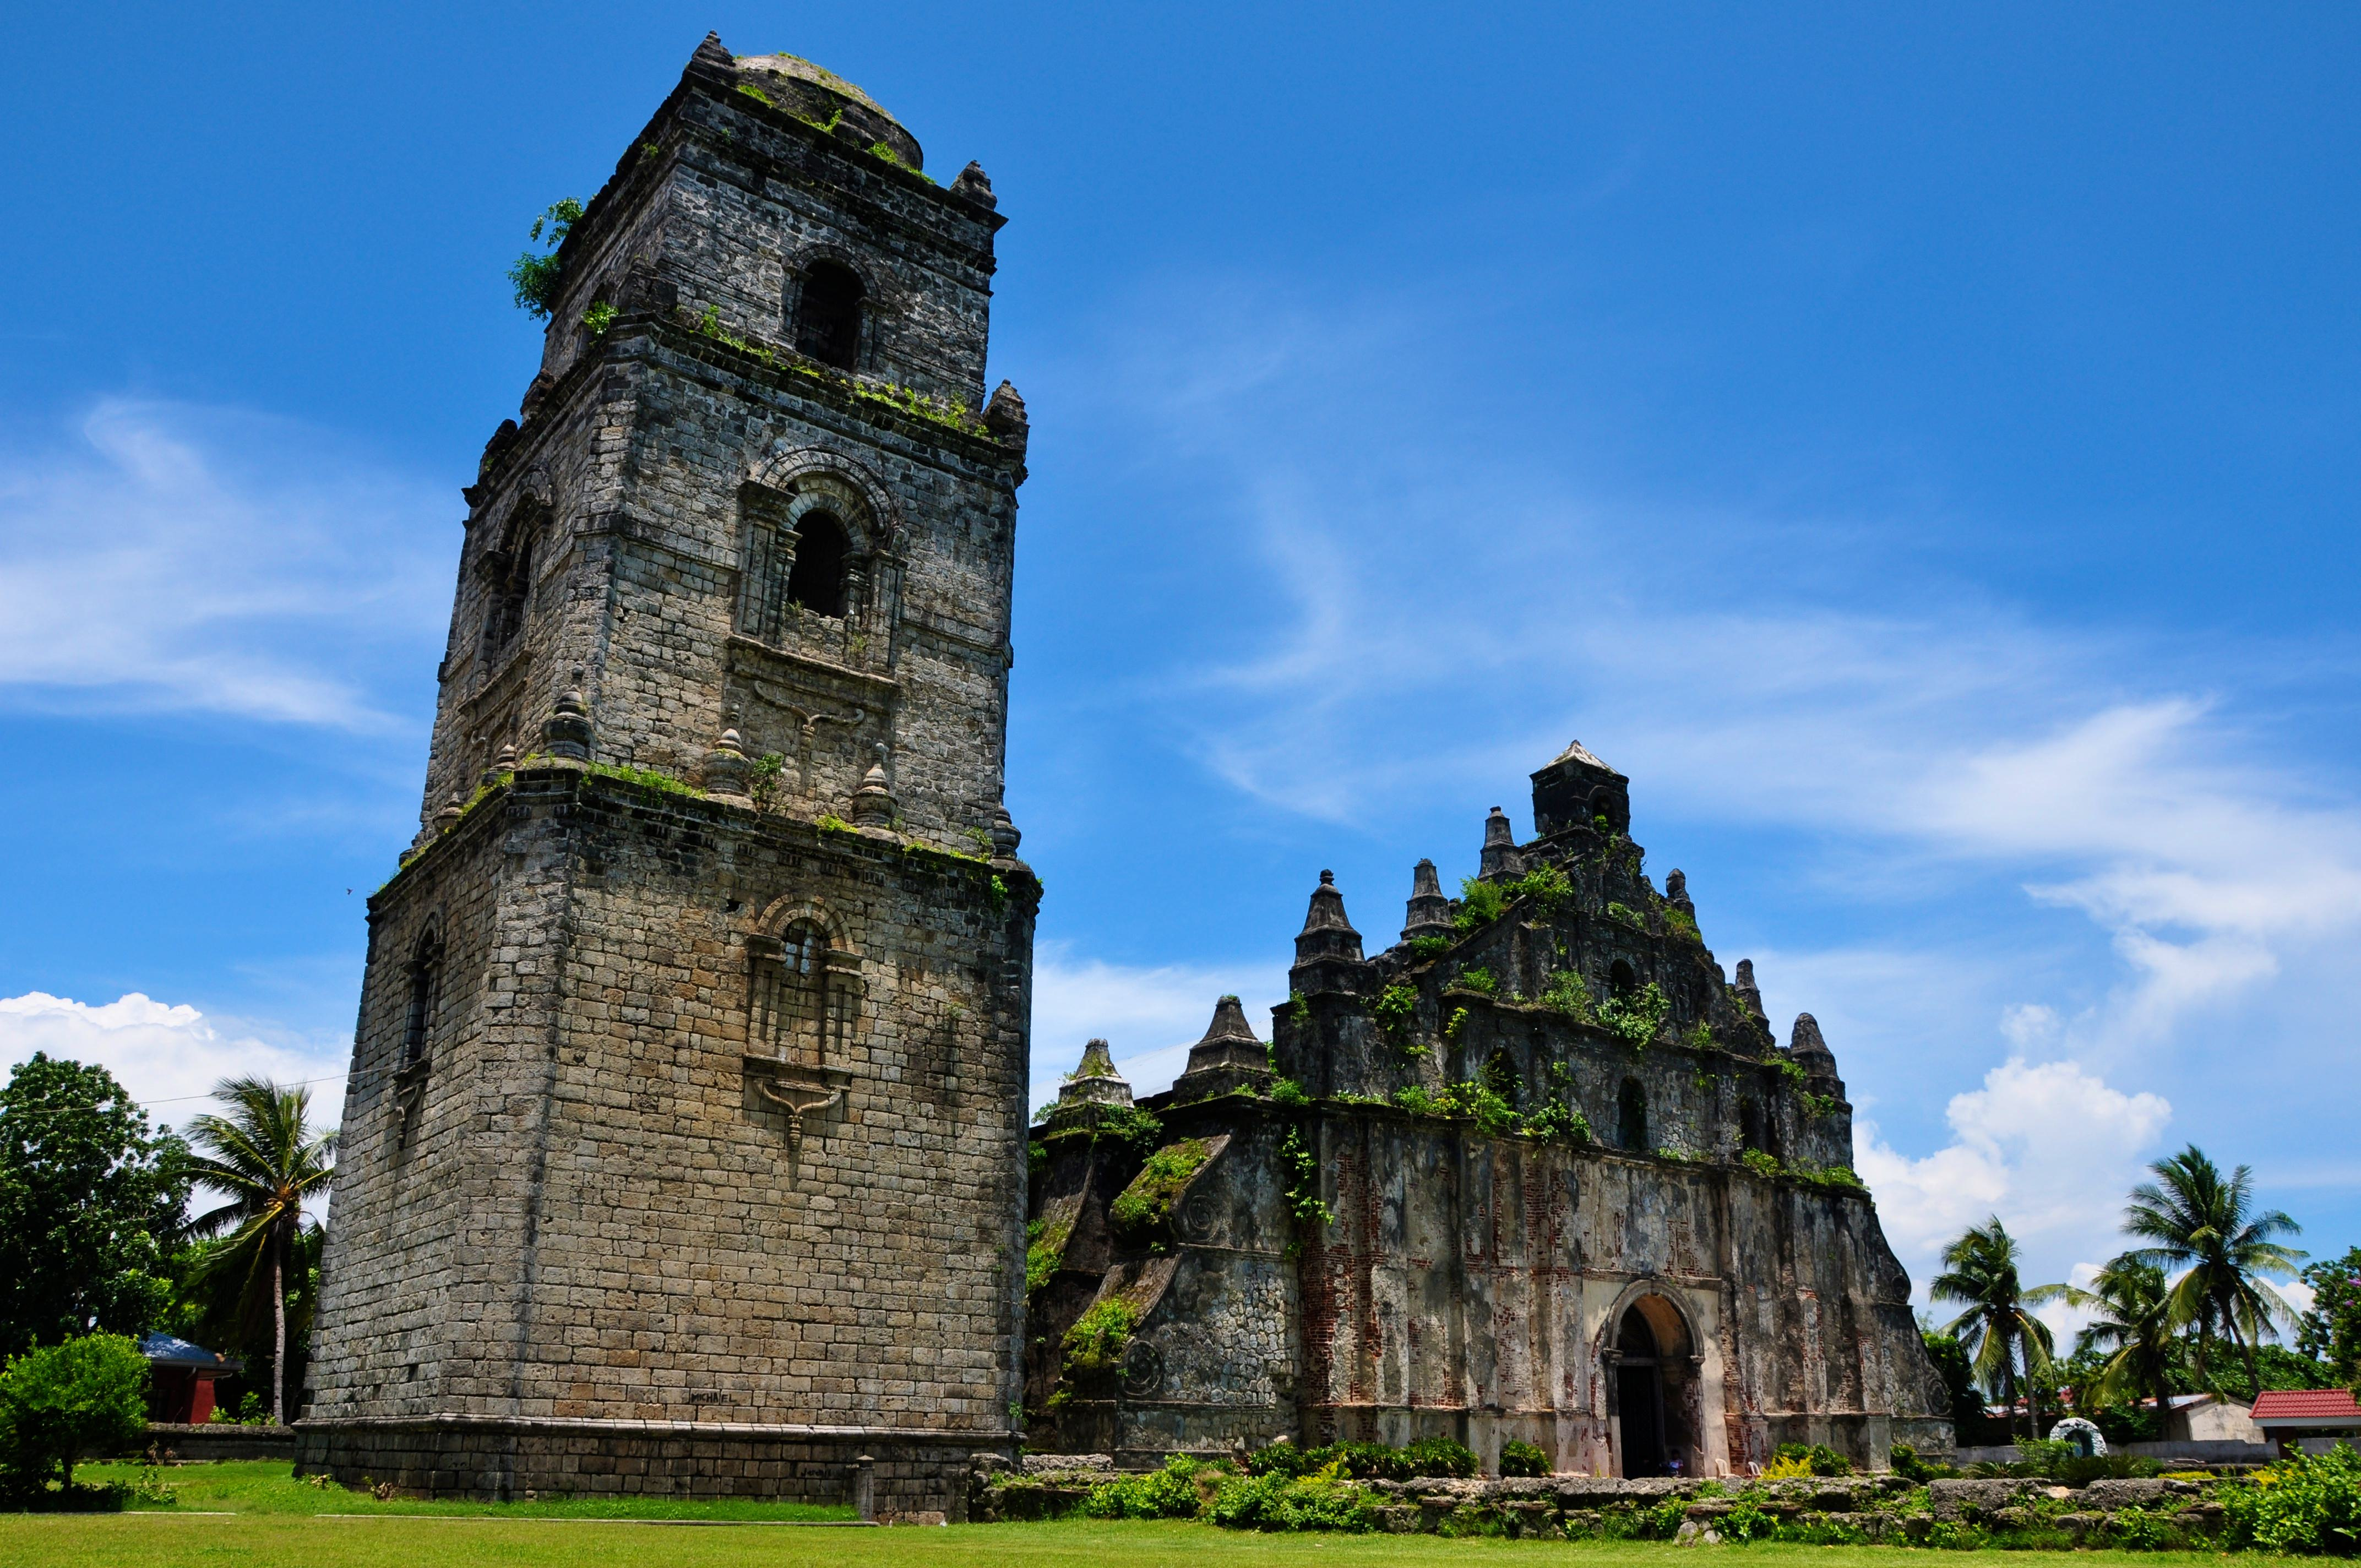Environmental Damage: (1388, 1064, 1601, 1162), (1533, 962, 1675, 1053), (1729, 1148, 1876, 1209), (1349, 966, 1447, 1045)
Paoay Church: (308, 52, 1976, 1487)
